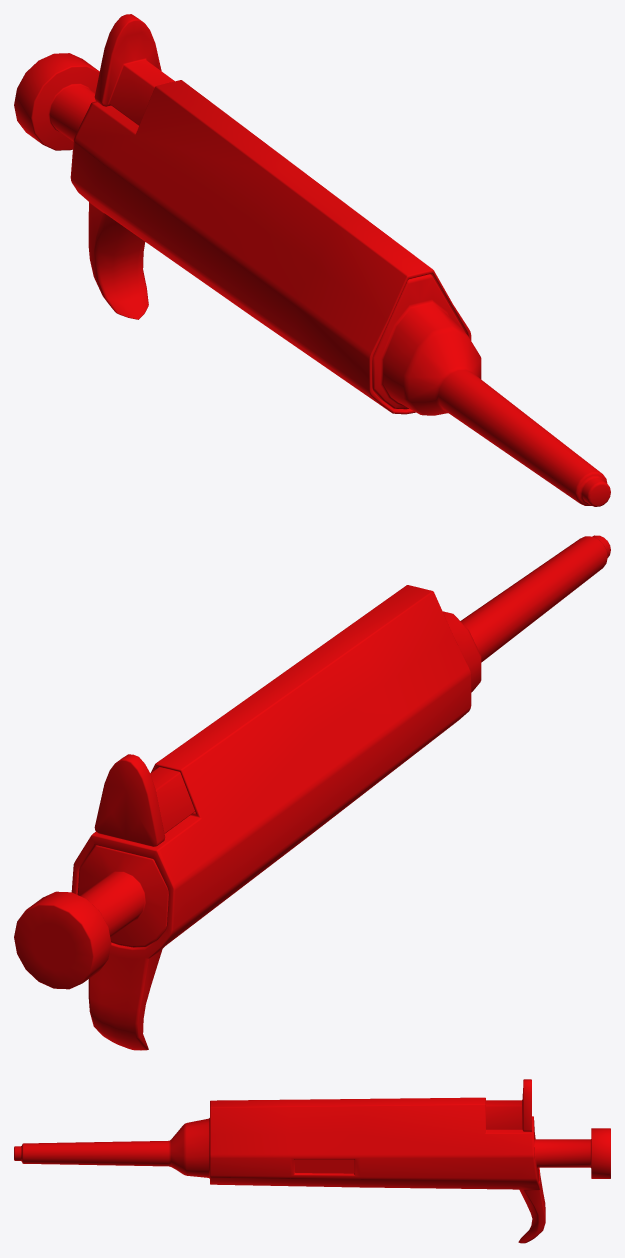
File: MicroPipette.003.fbx
The picture shows the model from 3 angles, top to bottom: view 1: azimuth 30°, elevation 25°; view 2: azimuth 150°, elevation 25°; view 3: azimuth 270°, elevation 25°; orthographic projection. The views are drawn at different scales.
Parts seen in each view (by area): view 1: GEO_MicroPipette_Body, GEO_MicroPipette_TIp, GEO_MicroPipette_Plunger, GEO_MicroPipette_Release; view 2: GEO_MicroPipette_Body, GEO_MicroPipette_Plunger, GEO_MicroPipette_TIp, GEO_MicroPipette_Release; view 3: GEO_MicroPipette_Body, GEO_MicroPipette_TIp, GEO_MicroPipette_Plunger, GEO_MicroPipette_Release, GEO_MicroPipette_Display.
Part boxes in pixels (x1,y1,x2,y2): GEO_MicroPipette_Body: (70,80,471,414); GEO_MicroPipette_TIp: (372,274,610,506); GEO_MicroPipette_Plunger: (14,53,99,150); GEO_MicroPipette_Release: (94,14,174,125); GEO_MicroPipette_Body: (71,585,471,1050); GEO_MicroPipette_Plunger: (14,845,168,989); GEO_MicroPipette_TIp: (442,535,610,692); GEO_MicroPipette_Release: (94,754,195,846); GEO_MicroPipette_Body: (210,1097,545,1243); GEO_MicroPipette_TIp: (14,1118,209,1178); GEO_MicroPipette_Plunger: (534,1128,610,1181); GEO_MicroPipette_Release: (486,1079,531,1131); GEO_MicroPipette_Display: (294,1159,354,1173).
Bounding box in the file's own units: 45.51 × 127 × 423.
